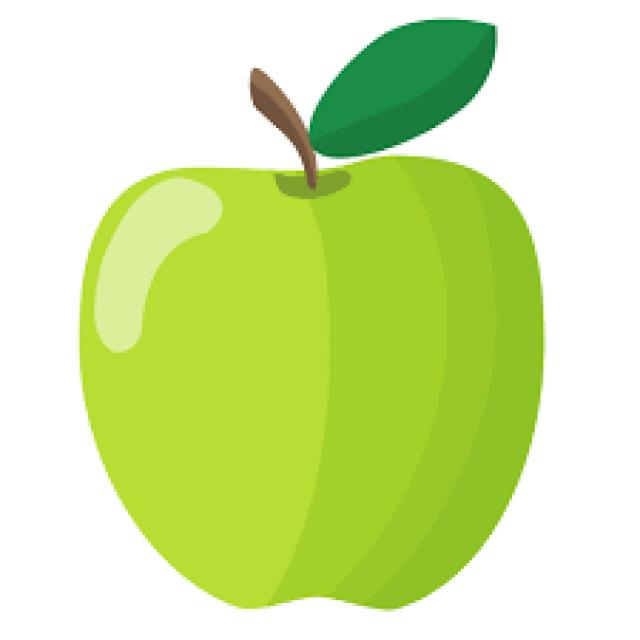50-_ripeness: (60, 140, 555, 632)
